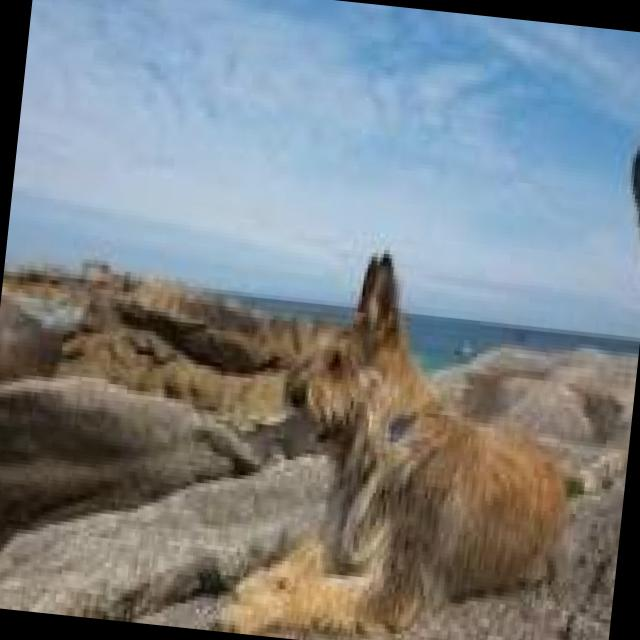Perro: (207, 227, 595, 640)
